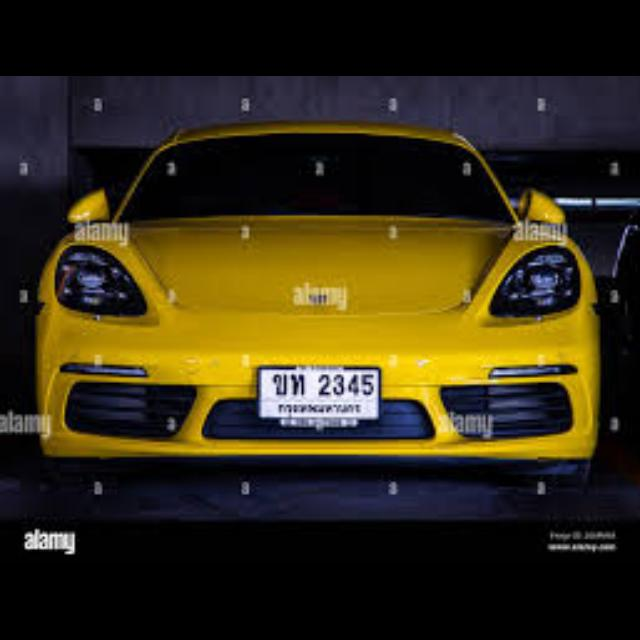licenseplate: (257, 363, 381, 425)
